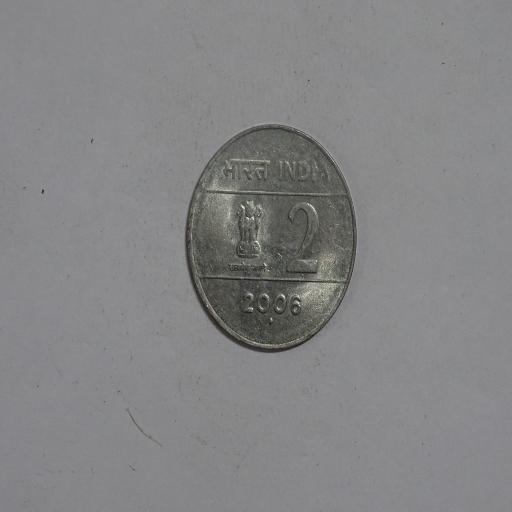rupee2: (182, 127, 357, 356)
